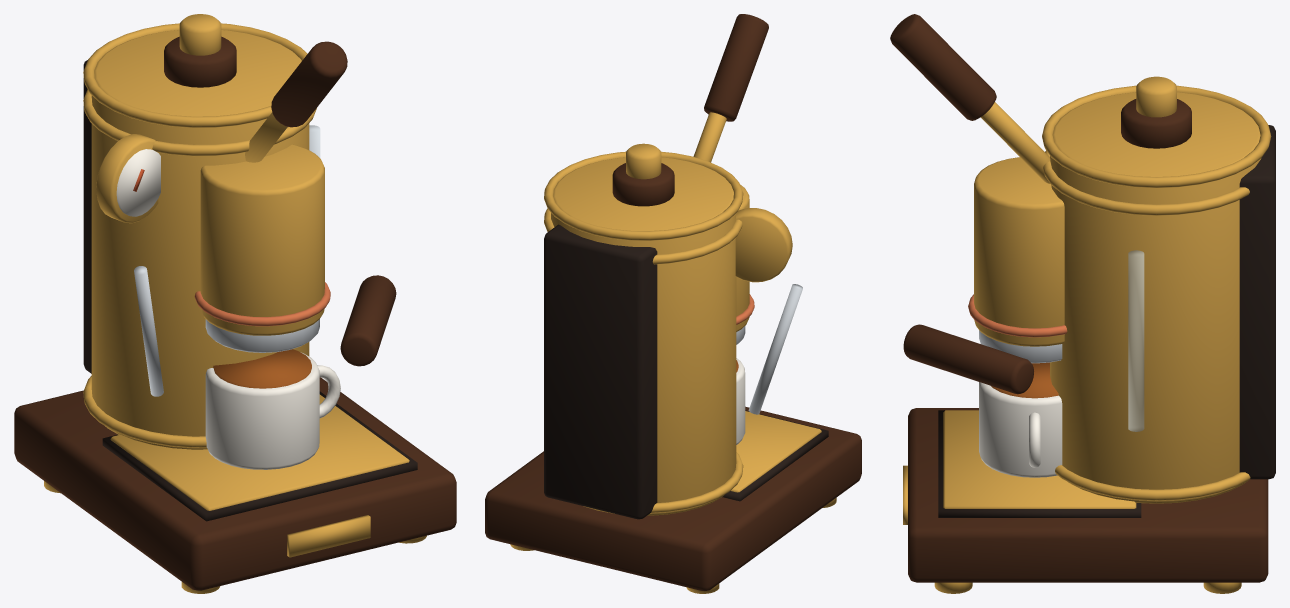
The model's file is kobo-lever-espresso.glb.
The picture shows the model from 3 angles, left to right: view 1: azimuth 30°, elevation 25°; view 2: azimuth 150°, elevation 25°; view 3: azimuth 270°, elevation 25°; orthographic projection. The views are drawn at different scales.
Visible parts, largest first — view 1: part_02_body, part_01_base, part_03_top, part_05_vessel, part_04_accent; view 2: part_02_body, part_01_base, part_03_top, part_04_accent, part_05_vessel; view 3: part_02_body, part_01_base, part_03_top, part_05_vessel, part_04_accent.
Part boxes in pixels (x1,y1,x2,y2): part_02_body: (83,14,320,449); part_01_base: (14,377,456,593); part_03_top: (194,41,347,335); part_05_vessel: (205,349,340,469); part_04_accent: (96,134,396,396); part_02_body: (544,143,743,519); part_01_base: (485,406,861,593); part_03_top: (693,14,768,331); part_04_accent: (735,208,802,414); part_05_vessel: (736,358,745,444); part_02_body: (1042,76,1275,503); part_01_base: (903,408,1268,593); part_03_top: (890,14,1067,346); part_05_vessel: (979,362,1062,477); part_04_accent: (903,324,1062,394).
Bounding box in the file's own units: 1.2 × 2.26 × 1.52.
